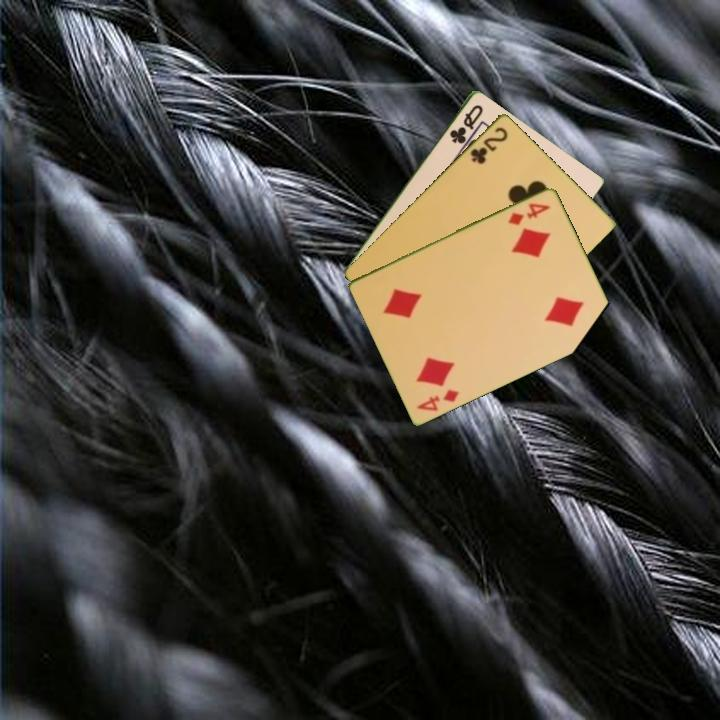2c: (467, 123, 511, 167)
4d: (504, 199, 553, 228), (413, 385, 462, 414)
Qc: (446, 100, 486, 147)
